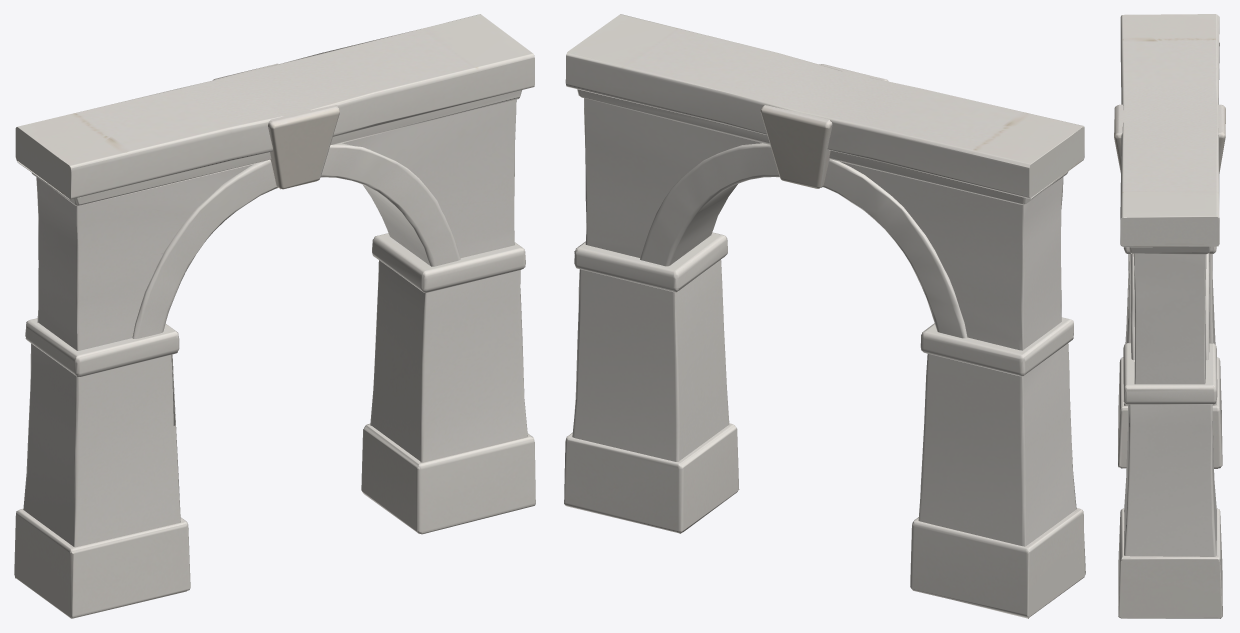
Rendered from gate_portal.glb.
3 renders of one model, left to right at view 1: azimuth 30°, elevation 25°; view 2: azimuth 150°, elevation 25°; view 3: azimuth 270°, elevation 25°, orthographic. The views are drawn at different scales.
Bounding box in the file's own units: 1 × 0.9355 × 0.2349.
Materials: 1 (1 with a texture image).
